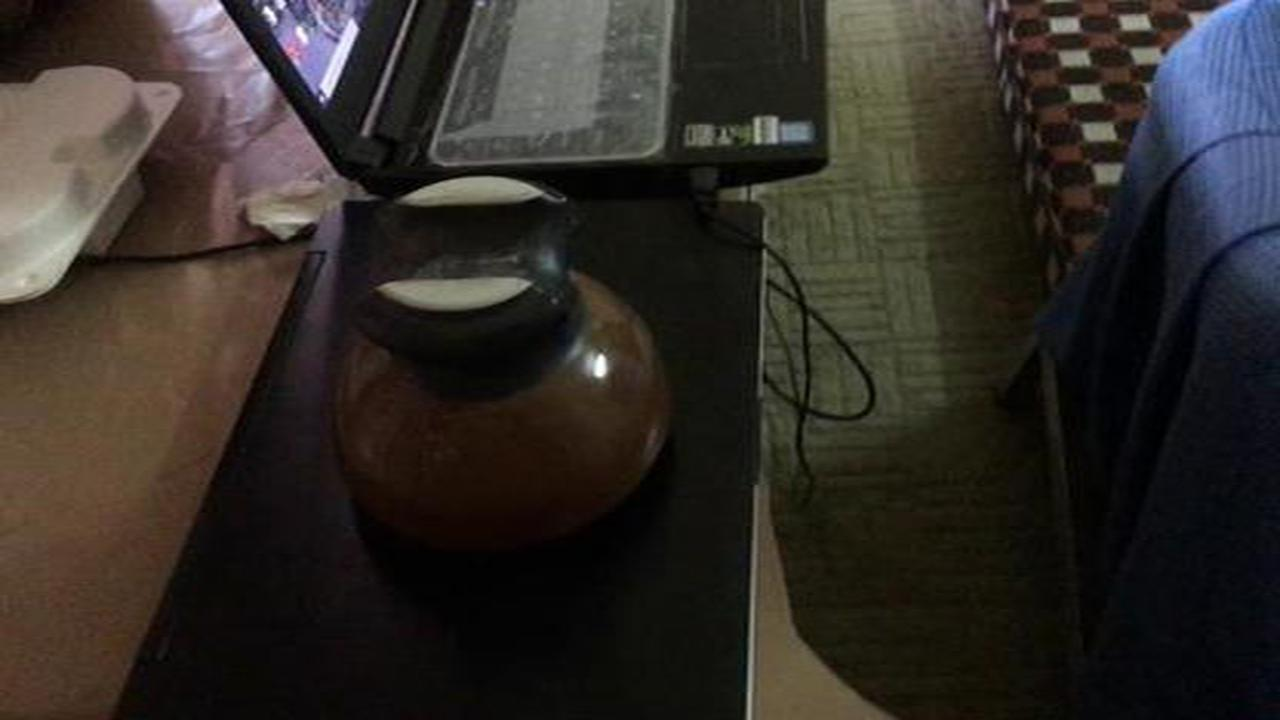insulator_pin: (308, 170, 711, 573)
